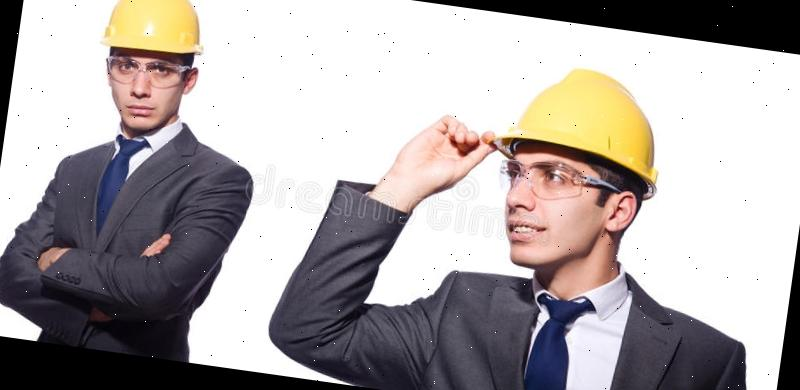helmet: (484, 53, 674, 199), (97, 0, 214, 61)
no_wear: (0, 119, 252, 367), (401, 268, 769, 390)
